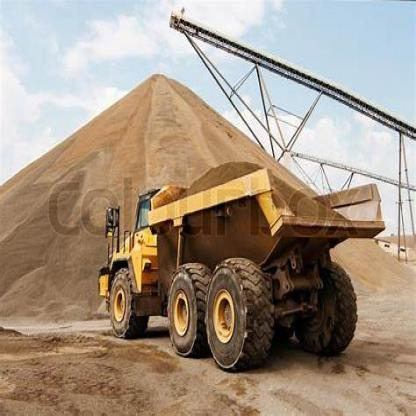dump_truck: (88, 153, 387, 375)
